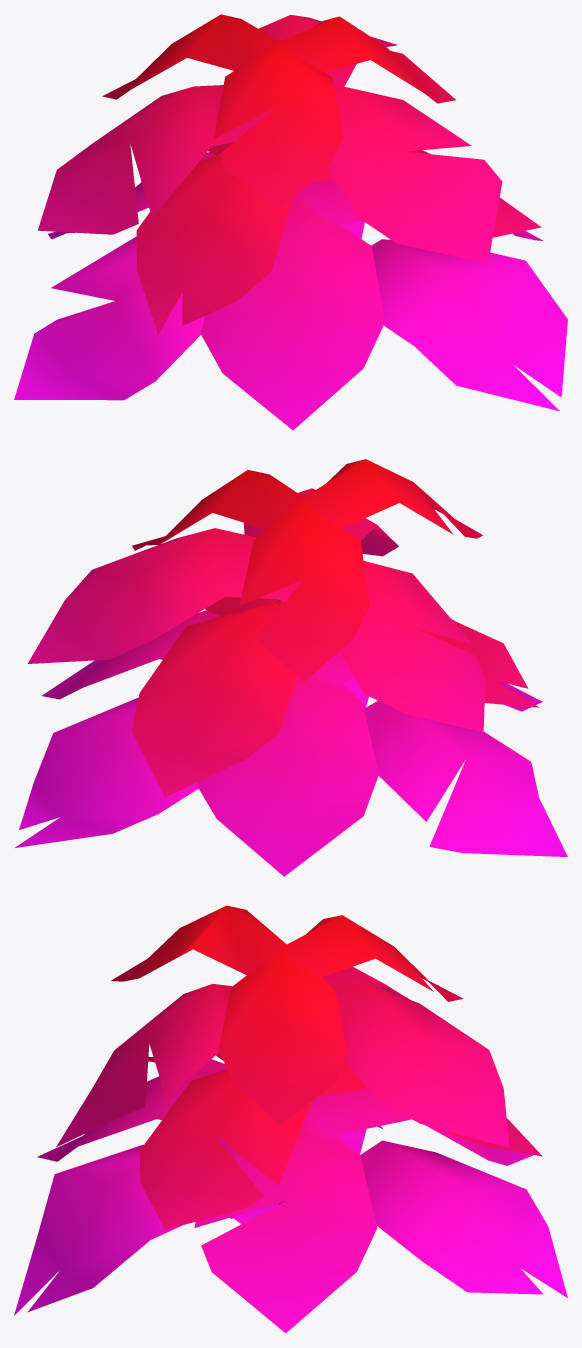
File: SM_Env_Plant_Fern_01.fbx
3 renders of one model, top to bottom at view 1: azimuth 30°, elevation 25°; view 2: azimuth 150°, elevation 25°; view 3: azimuth 270°, elevation 25°, orthographic.
Visible parts, largest first — view 1: SM_Env_Plant_Fern_01; view 2: SM_Env_Plant_Fern_01; view 3: SM_Env_Plant_Fern_01.
Part boxes in pixels (x1,y1,x2,y2): SM_Env_Plant_Fern_01: (14, 14, 567, 430); SM_Env_Plant_Fern_01: (15, 459, 567, 876); SM_Env_Plant_Fern_01: (14, 905, 567, 1333).
Size of the model in its own units: 141 by 85.9 by 129.
